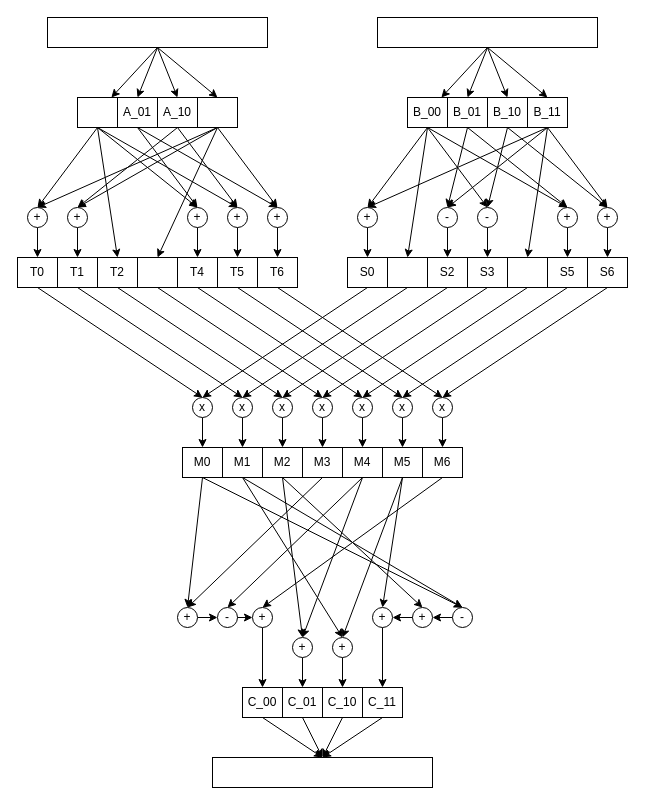
Image size: 645x805. Some labels were removed from this diagram. Here are the shapes that lost their labels. From the top down, the centre of each, then its label:
(157,32): A_ij
(487,32): B_ij
(97,112): A_00
(217,112): A_11
(157,272): T3
(407,272): S1
(527,272): S4
(322,772): C_ij
